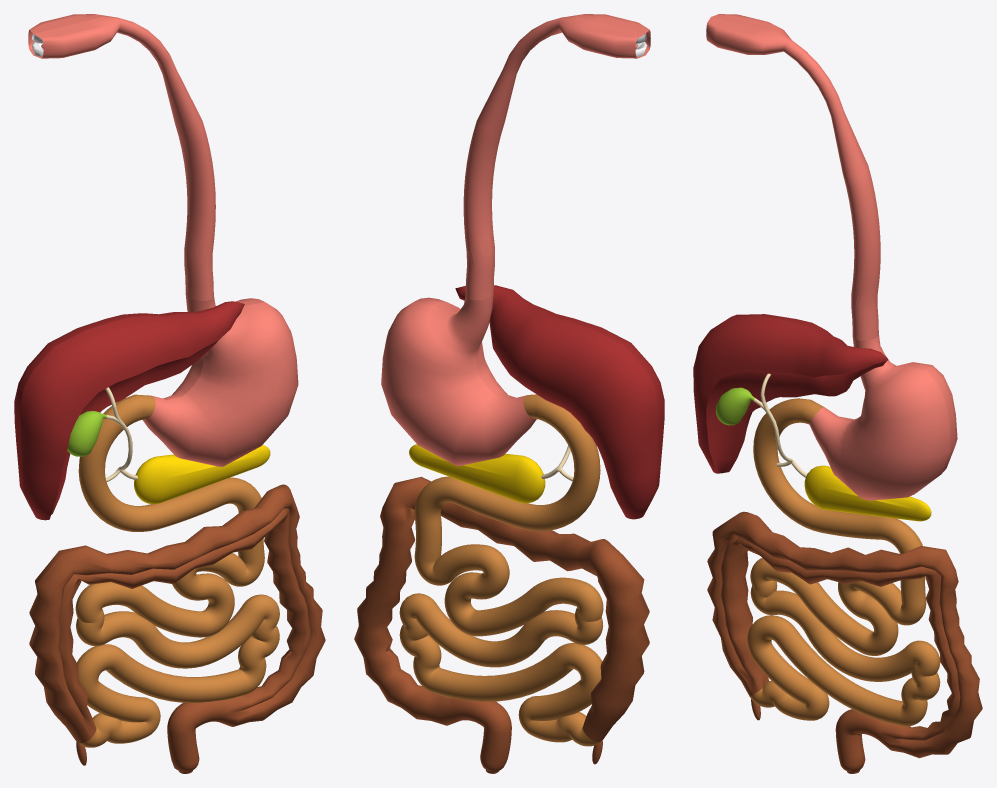
3 views of the same model, side by side, from view 1: azimuth 30°, elevation 25°; view 2: azimuth 150°, elevation 25°; view 3: azimuth 330°, elevation 25° (orthographic). The views are drawn at different scales.
Parts seen in each view (by area): view 1: group_8, group_10, group_13, group_0, group_9, group_16, group_5, group_3, group_2, group_7, group_15, group_6 (+1 smaller); view 2: group_7, group_5, group_3, group_6, group_2, group_16, group_13, group_8, group_10, group_9, group_0; view 3: group_8, group_10, group_13, group_0, group_9, group_16, group_7, group_5, group_2, group_6, group_15, group_3 (+1 smaller).
Boxes of the visible parts, left/top/right/bottom form: group_8: left=77, top=395, right=279, bottom=747; group_10: left=31, top=487, right=325, bottom=773; group_13: left=20, top=301, right=244, bottom=520; group_0: left=143, top=297, right=298, bottom=466; group_9: left=34, top=17, right=215, bottom=300; group_16: left=134, top=445, right=270, bottom=504; group_5: left=29, top=484, right=293, bottom=771; group_3: left=14, top=301, right=239, bottom=516; group_2: left=28, top=14, right=189, bottom=296; group_7: left=75, top=394, right=267, bottom=720; group_15: left=67, top=411, right=106, bottom=456; group_6: left=143, top=294, right=264, bottom=453; group_7: left=399, top=395, right=601, bottom=746; group_5: left=354, top=477, right=647, bottom=773; group_3: left=455, top=286, right=658, bottom=519; group_6: left=381, top=295, right=536, bottom=466; group_2: left=463, top=17, right=645, bottom=300; group_16: left=409, top=444, right=545, bottom=503; group_13: left=463, top=285, right=664, bottom=516; group_8: left=412, top=394, right=603, bottom=718; group_10: left=384, top=476, right=649, bottom=771; group_9: left=489, top=14, right=650, bottom=295; group_0: left=414, top=293, right=536, bottom=453; group_8: left=747, top=399, right=938, bottom=726; group_10: left=707, top=514, right=980, bottom=773; group_13: left=693, top=316, right=888, bottom=473; group_0: left=809, top=337, right=950, bottom=500; group_9: left=706, top=17, right=878, bottom=340; group_16: left=804, top=465, right=931, bottom=521; group_7: left=763, top=398, right=940, bottom=718; group_5: left=738, top=511, right=982, bottom=771; group_2: left=711, top=14, right=880, bottom=336; group_6: left=822, top=334, right=957, bottom=473; group_15: left=716, top=387, right=755, bottom=425; group_3: left=729, top=314, right=887, bottom=471.
Size of the model in its own units: 115 by 35.76 by 279.
